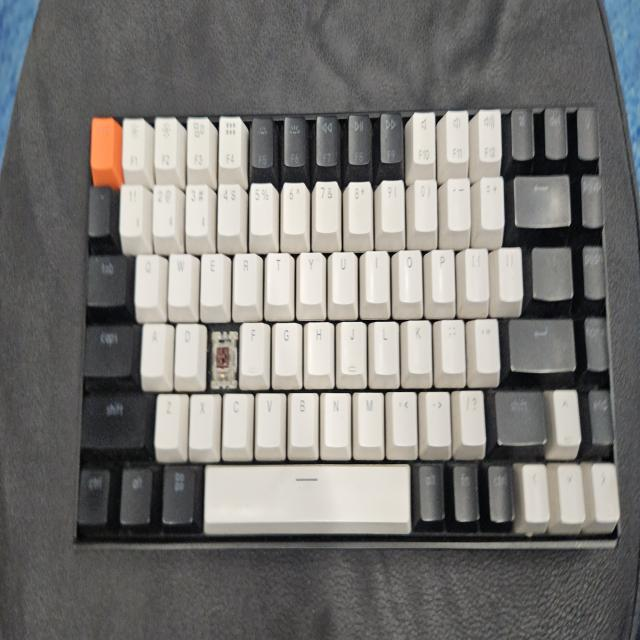C: (215, 336, 235, 393)
